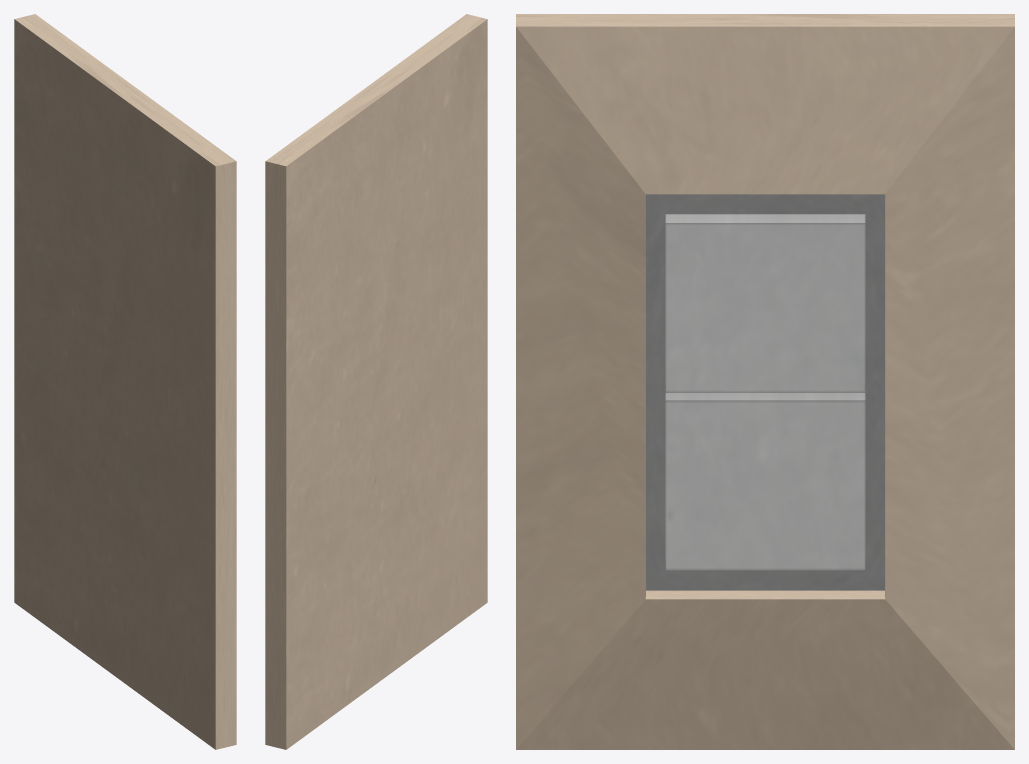
The model's file is LichtSchalter.fbx.
The picture shows the model from 3 angles, left to right: view 1: azimuth 30°, elevation 25°; view 2: azimuth 150°, elevation 25°; view 3: azimuth 270°, elevation 25°; orthographic projection. The views are drawn at different scales.
Parts seen in each view (by area): view 1: Cube; view 2: Cube; view 3: Cube.
Part boxes in pixels (left/top/right/bottom): Cube: left=14, top=14, right=236, bottom=749; Cube: left=265, top=14, right=487, bottom=749; Cube: left=516, top=14, right=1014, bottom=749.
Size of the model in its own units: 1 by 16 by 10.
